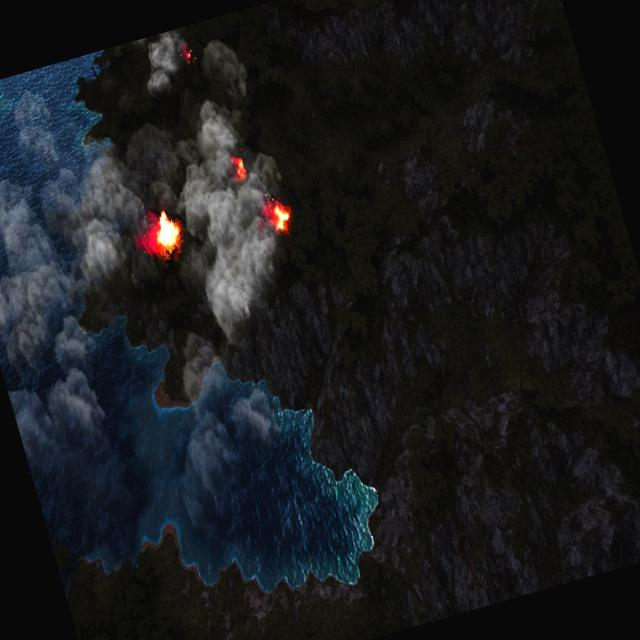fire: (145, 208, 185, 259), (268, 198, 296, 233), (230, 152, 248, 180), (182, 42, 196, 64)
smoke: (0, 20, 340, 484), (148, 317, 301, 523), (95, 27, 198, 108)
